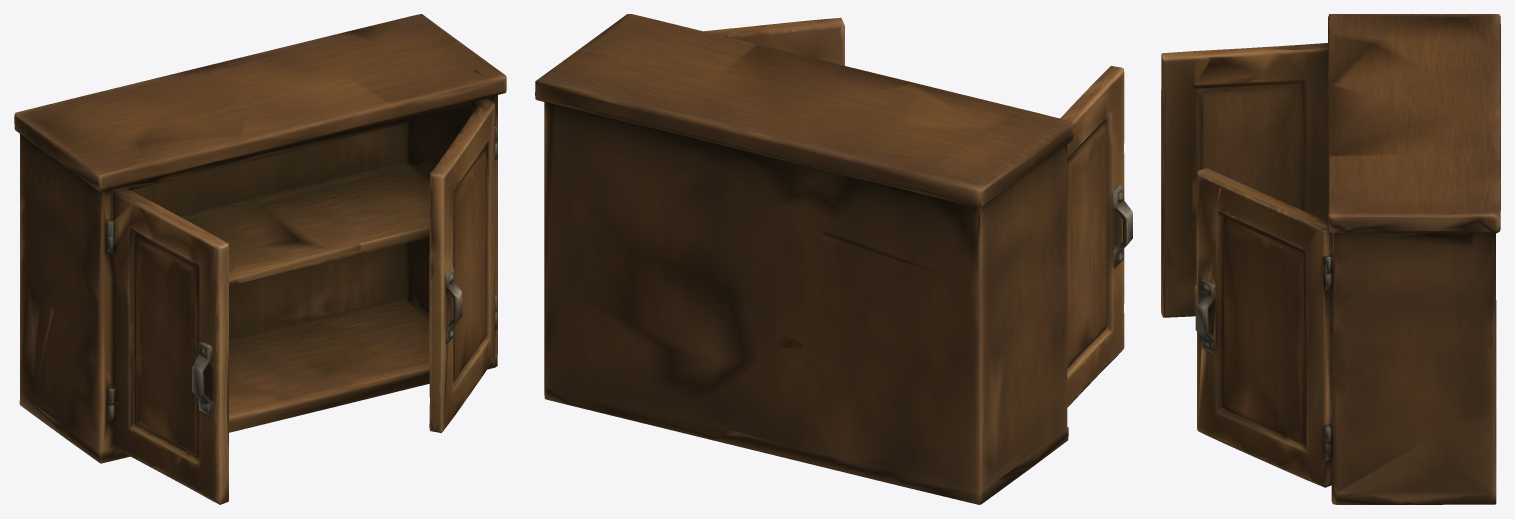
File: AlacenaAbierta.glb
3 views of the same model, side by side, from view 1: azimuth 30°, elevation 25°; view 2: azimuth 150°, elevation 25°; view 3: azimuth 270°, elevation 25° (orthographic). The views are drawn at different scales.
Visible parts, largest first — view 1: node_0; view 2: node_0; view 3: node_0.
Part boxes in pixels (<box>): node_0: <box>14,14,506,504</box>; node_0: <box>535,14,1132,504</box>; node_0: <box>1161,14,1500,504</box>.
Size of the model in its own units: 0.8576 by 0.5853 by 0.6136.
1 material, 1 textured.
